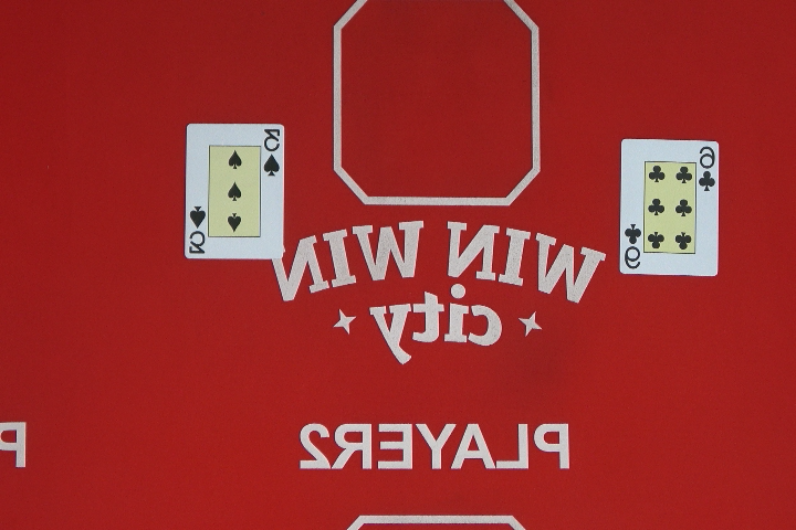3S: (241, 126, 301, 180), (165, 204, 224, 258)
6C: (679, 141, 736, 194), (605, 219, 661, 271)
